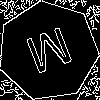M: (23, 26, 79, 84)
